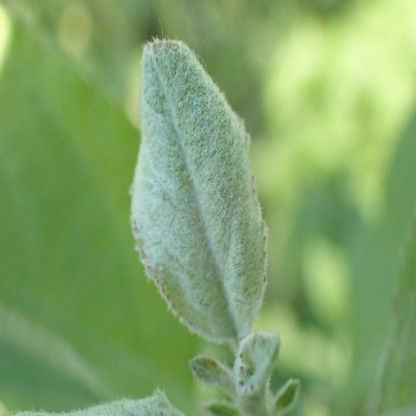powder: (130, 39, 267, 343), (15, 387, 182, 416), (238, 333, 282, 398)
